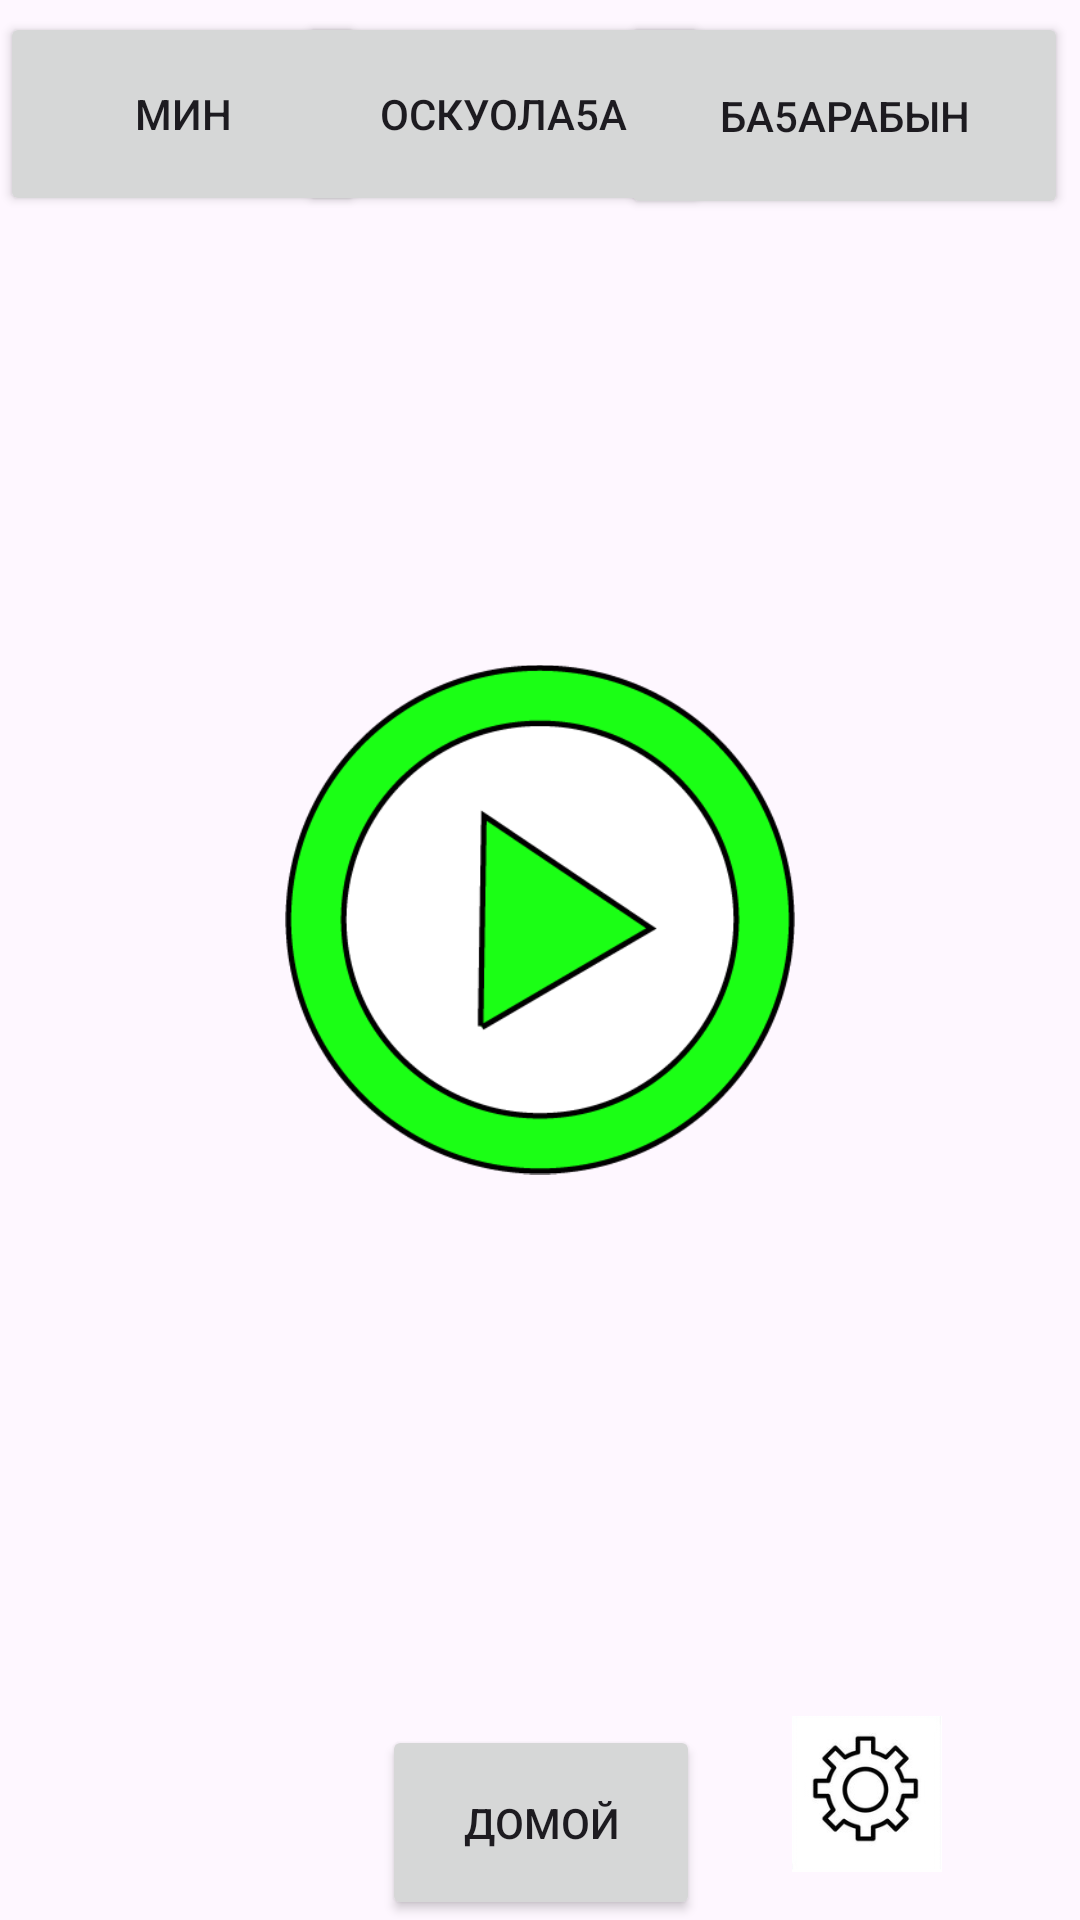

Icon click points for this 1080px×1920px phone screenshot, format [x,y]:
settings: [865,1789]
